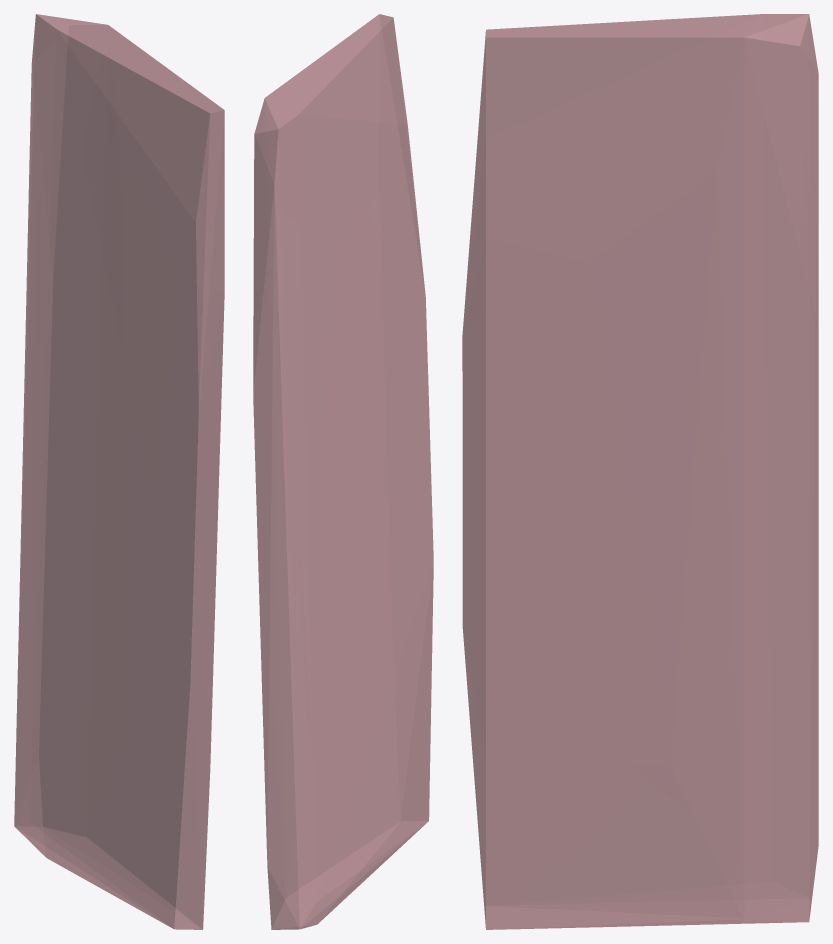
3 renders of one model, left to right at view 1: azimuth 30°, elevation 25°; view 2: azimuth 150°, elevation 25°; view 3: azimuth 270°, elevation 25°, orthographic. The views are drawn at different scales.
Parts seen in each view (by area): view 1: Shape_IndexedFaceSet.004; view 2: Shape_IndexedFaceSet.004; view 3: Shape_IndexedFaceSet.004.
Part boxes in pixels (x1,y1,x2,y2): Shape_IndexedFaceSet.004: (14, 14, 224, 929); Shape_IndexedFaceSet.004: (253, 14, 433, 929); Shape_IndexedFaceSet.004: (462, 14, 818, 929).
Bounding box in the file's own units: 0.0633 × 0.7671 × 0.2712.
